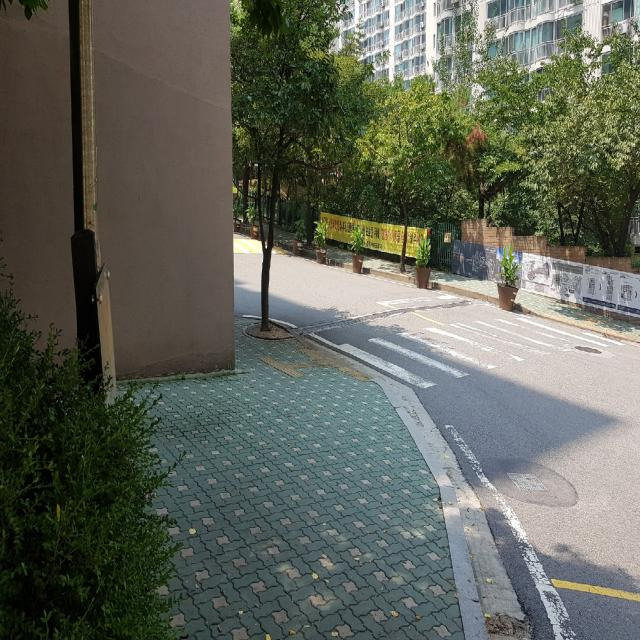횡단보도: (336, 316, 627, 390)
